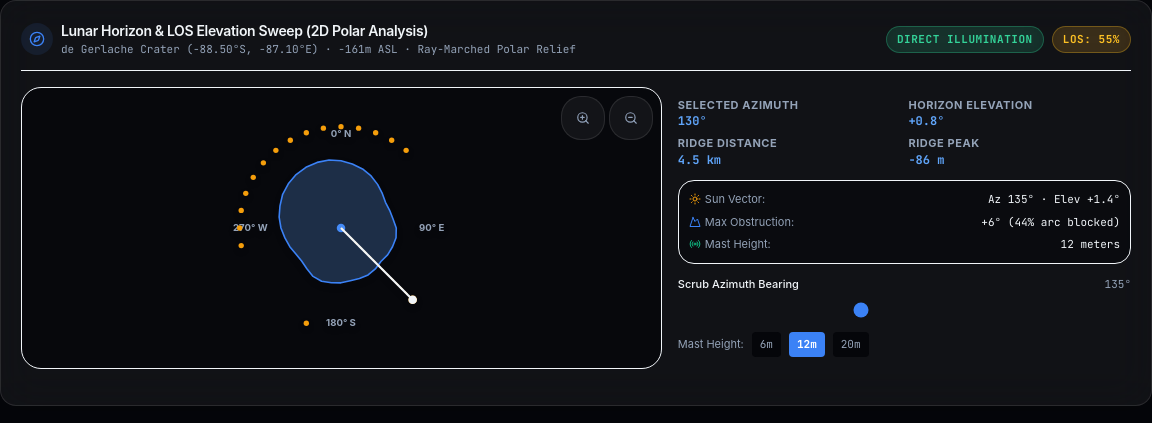
Scenario: HorizonProfile3D Component › updates mast height when clicking height buttons
expect the text "12 meters" is shown: met, box [1061,236,1120,252]
Click 20m button
What coordinates should you click on to do the following:
click the button "20m"
I would click on:
 (851, 344)
Its box is [833,332,869,356].
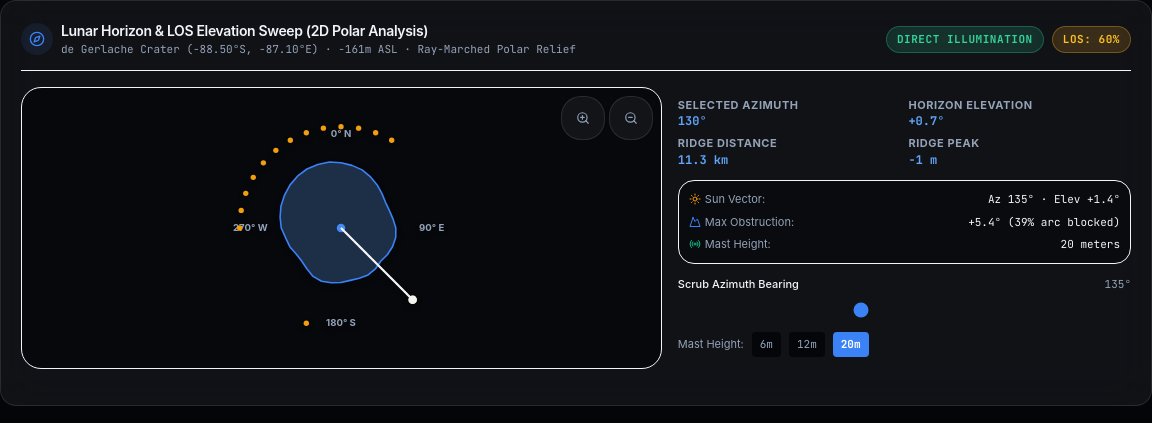
expect the text "20 meters" is shown: met, box [1061,236,1120,252]
